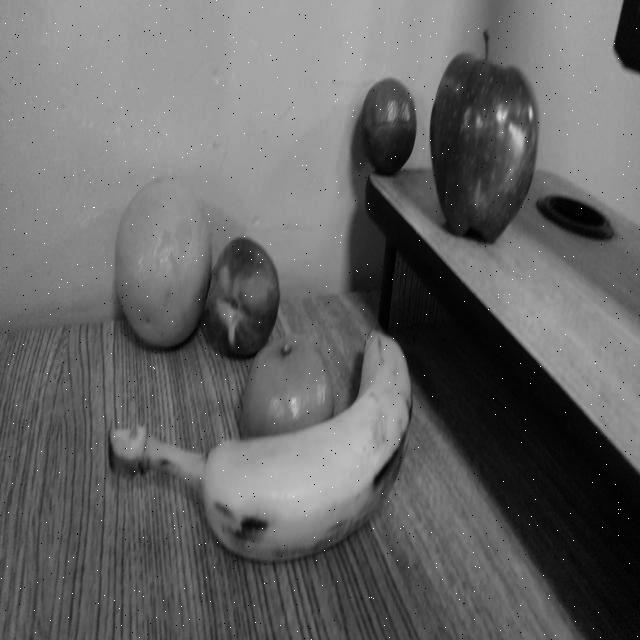Apel Merah: (426, 45, 540, 245)
Jeruk: (113, 173, 212, 350)
Jeruk Mandarin: (243, 336, 335, 466)
Lemon: (361, 75, 416, 174)
Persik: (212, 236, 280, 358)
Pisang: (98, 329, 414, 567)
